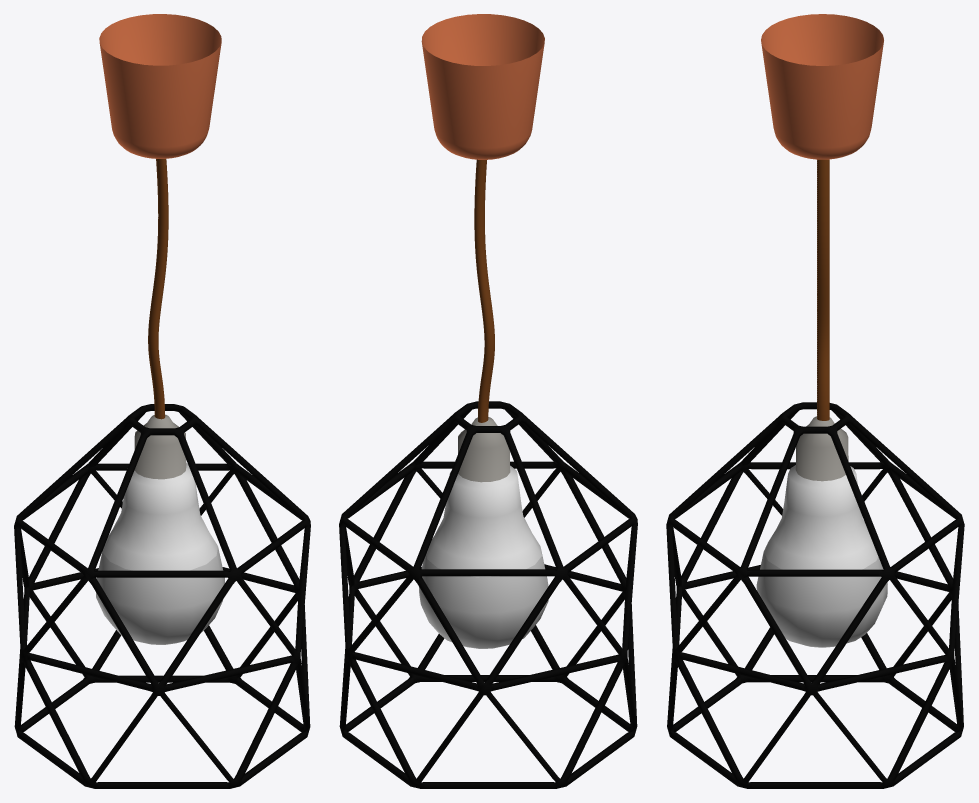
File: lampara_hexagonal_export.glb
3 renders of one model, left to right at view 1: azimuth 30°, elevation 25°; view 2: azimuth 150°, elevation 25°; view 3: azimuth 270°, elevation 25°, orthographic.
Visible parts, largest first — view 1: Lampara_3; view 2: Lampara_3; view 3: Lampara_3.
Boxes of the visible parts, x1,y1,x2,y2 form: Lampara_3: (14,14,310,788); Lampara_3: (339,14,637,788); Lampara_3: (666,14,964,788).
Size of the model in its own units: 1.85 by 4.41 by 1.72.
